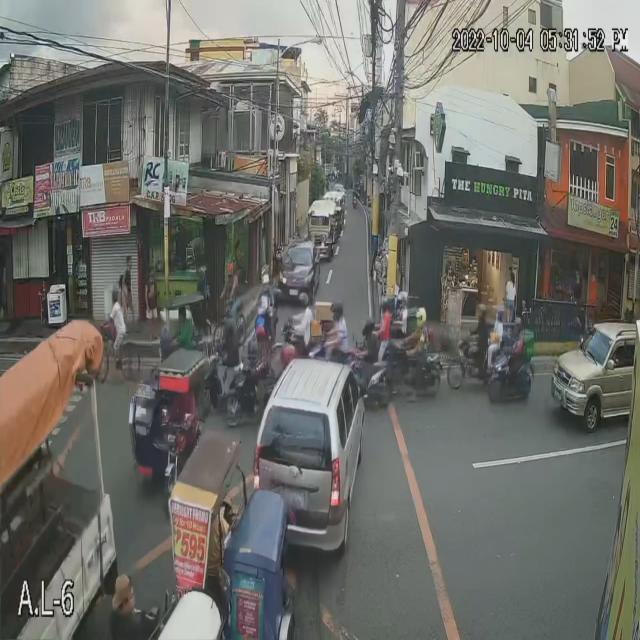full: (330, 299, 344, 322), (396, 289, 408, 311), (416, 306, 427, 329)
half: (299, 294, 308, 306)
